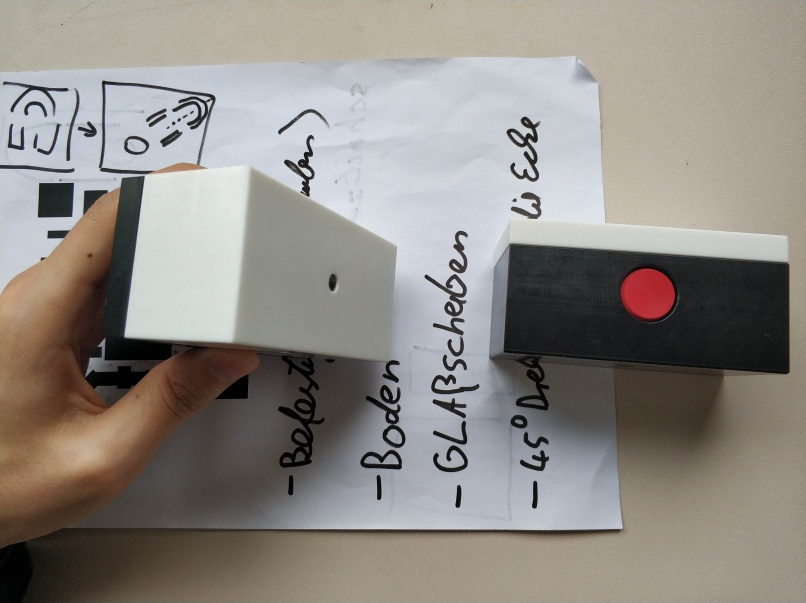white+black+red: (488, 217, 791, 379)
